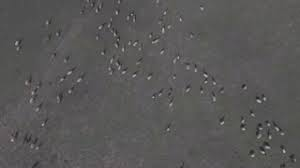sheep: (55, 93, 64, 105), (210, 94, 219, 104), (200, 70, 209, 79), (159, 26, 167, 35), (277, 131, 288, 137), (254, 97, 262, 105), (23, 78, 31, 86), (183, 86, 192, 93), (249, 150, 256, 159), (97, 22, 104, 31), (164, 124, 171, 132), (131, 72, 138, 80), (280, 146, 287, 154), (13, 39, 21, 46), (239, 82, 247, 89), (262, 144, 271, 150), (145, 73, 152, 80), (264, 120, 271, 127), (184, 62, 190, 70), (74, 76, 82, 82), (64, 89, 73, 94), (219, 120, 226, 126), (158, 48, 165, 54), (239, 125, 245, 132), (38, 121, 46, 126), (29, 141, 34, 149), (44, 19, 51, 24), (62, 57, 67, 62)
